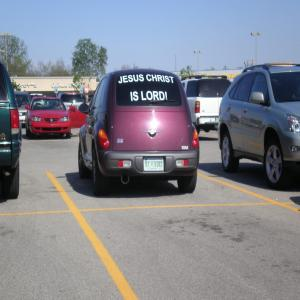Vehicle-registration-plate: (145, 158, 165, 172)
